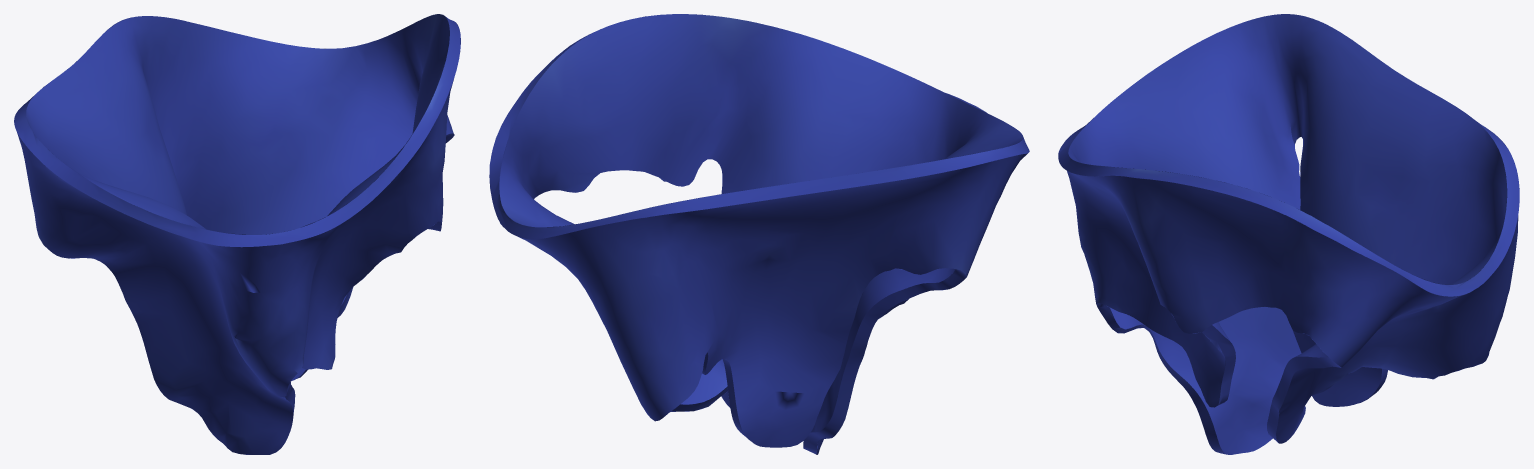
The picture shows the model from 3 angles, left to right: view 1: azimuth 30°, elevation 25°; view 2: azimuth 150°, elevation 25°; view 3: azimuth 270°, elevation 25°; orthographic projection. The views are drawn at different scales.
Parts seen in each view (by area): view 1: OCS14_maxS_6; view 2: OCS14_maxS_6; view 3: OCS14_maxS_6.
Part boxes in pixels (x1,y1,x2,y2): OCS14_maxS_6: (14,14,460,454); OCS14_maxS_6: (489,14,1029,454); OCS14_maxS_6: (1058,14,1519,454).
Bounding box in the file's own units: 1.47 × 1.14 × 1.33.
